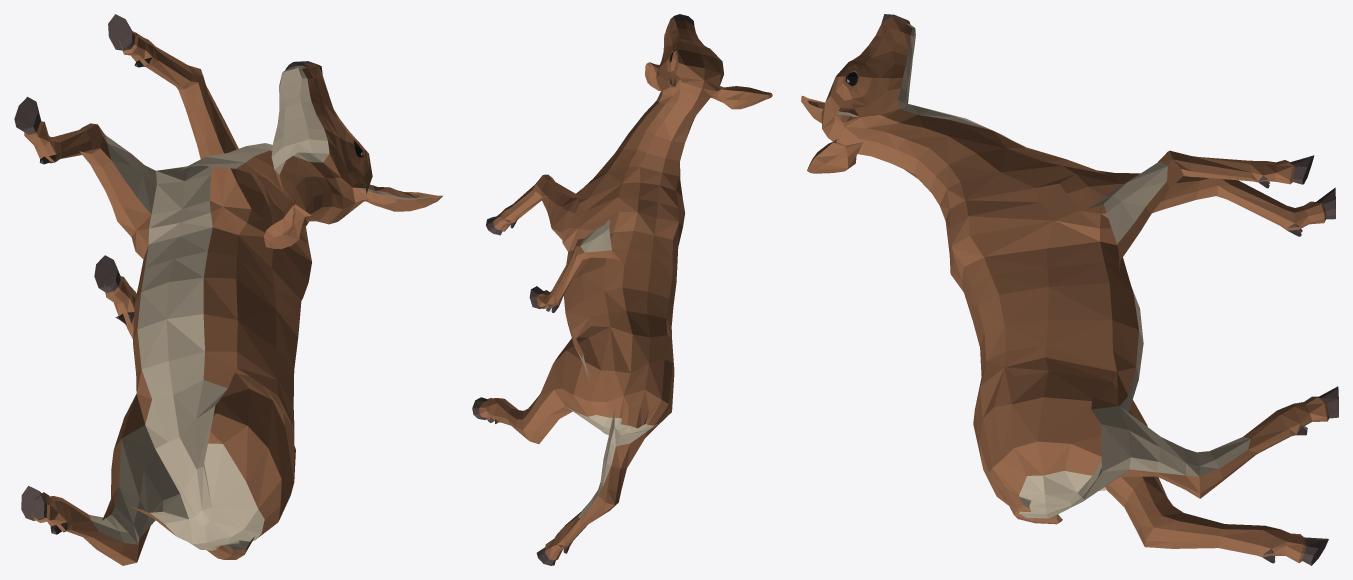
The model's file is deer-walk-2.glb.
3 views of the same model, side by side, from view 1: azimuth 30°, elevation 25°; view 2: azimuth 150°, elevation 25°; view 3: azimuth 270°, elevation 25° (orthographic). The views are drawn at different scales.
Bounding box in the file's own units: 0.4867 × 1.6 × 1.38.
